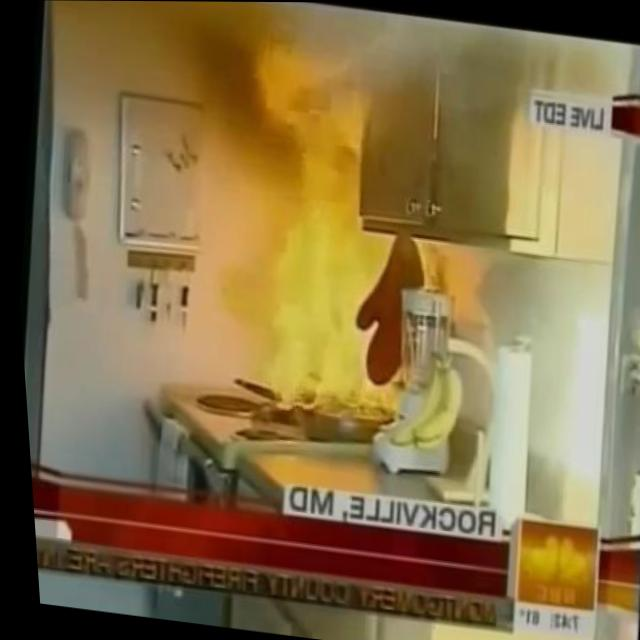fire: (216, 212, 463, 419), (244, 35, 372, 225)
